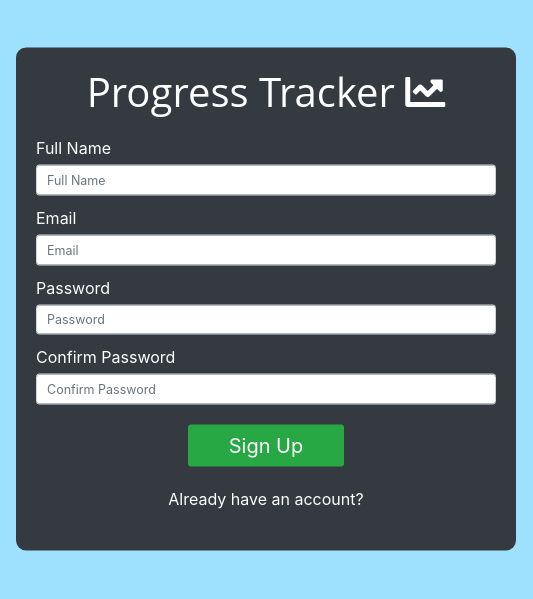
The Register component › renders an error when the password is less than 6 chars
The width and height of the screenshot is (533, 599).
Type "pass" into the password field with placeholder "Password" at (266, 319), box left=36, top=304, right=496, bottom=335
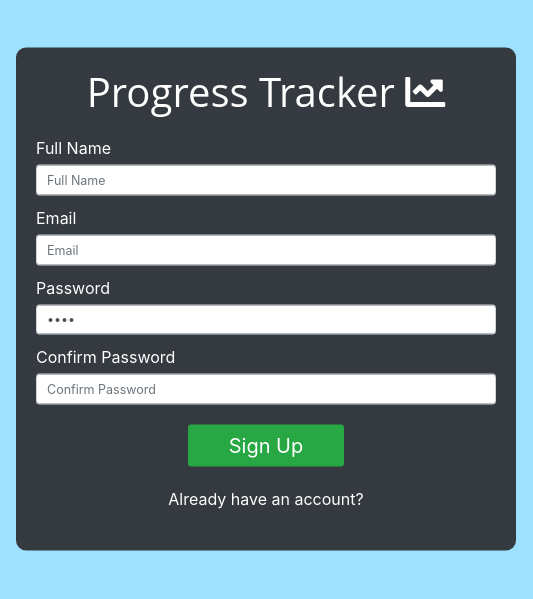
Type "pass" into the password field with placeholder "Confirm Password" at (266, 389), box left=36, top=374, right=496, bottom=405
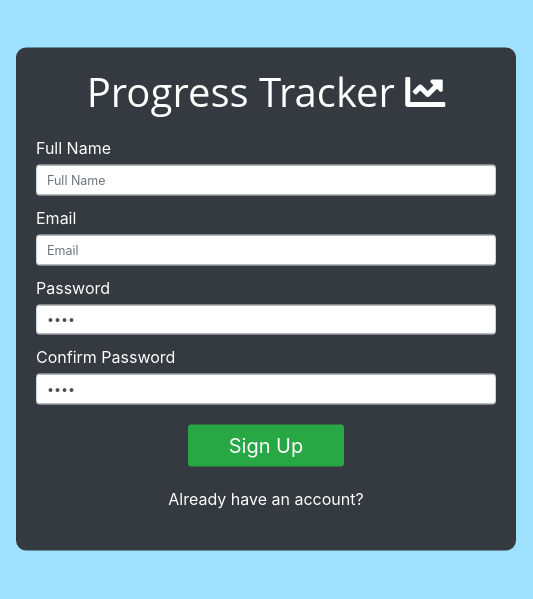
Click the button "Sign Up" at (266, 446), box left=188, top=424, right=344, bottom=466
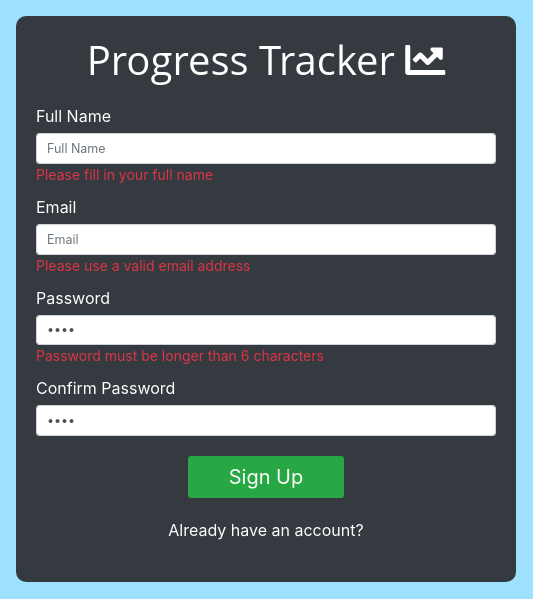
Expected: the text "Password must be longer than 6 characters" is shown, left=36, top=347, right=324, bottom=364
